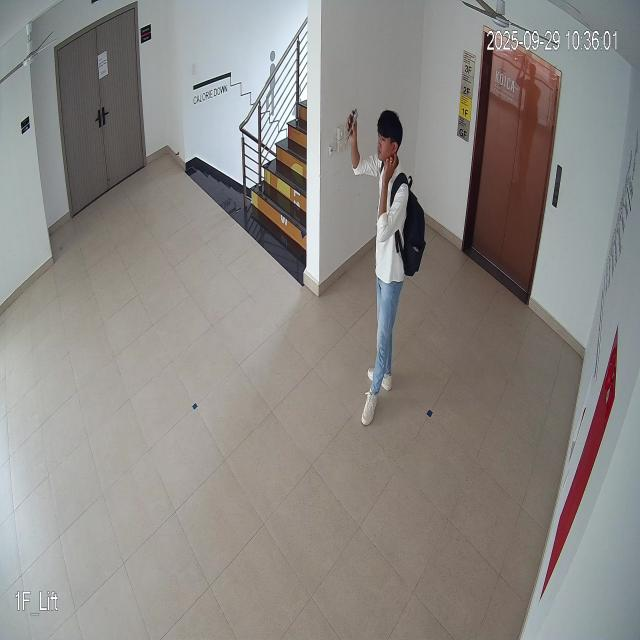face: (372, 106, 406, 164)
